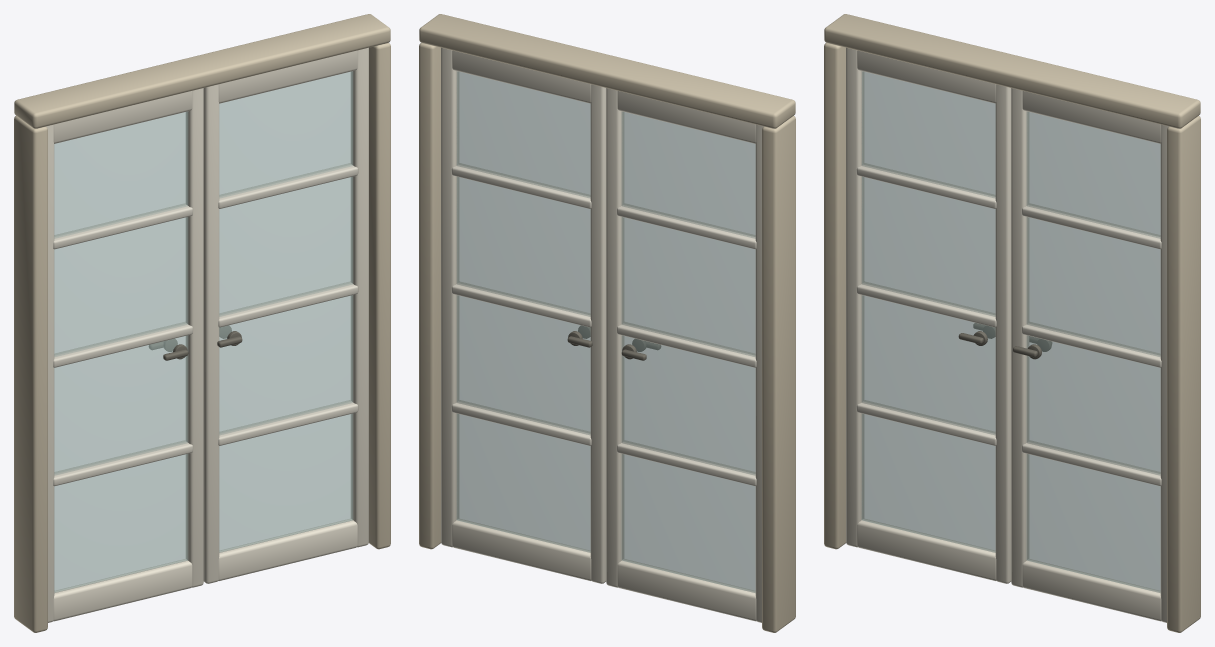
The model's file is door-french.glb.
The picture shows the model from 3 angles, left to right: view 1: azimuth 30°, elevation 25°; view 2: azimuth 150°, elevation 25°; view 3: azimuth 330°, elevation 25°; orthographic projection.
Visible parts, largest first — view 1: door-french; view 2: door-french; view 3: door-french.
Part boxes in pixels (bbox=[...]): door-french: bbox=[14, 14, 390, 632]; door-french: bbox=[419, 14, 795, 632]; door-french: bbox=[824, 14, 1200, 632].
Size of the model in its own units: 1.55 by 2.15 by 0.16.
